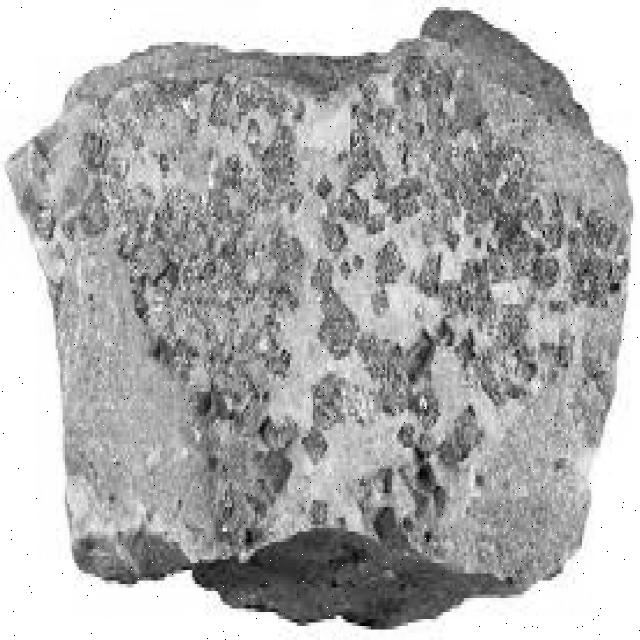Metamorphic: (2, 21, 631, 636)
